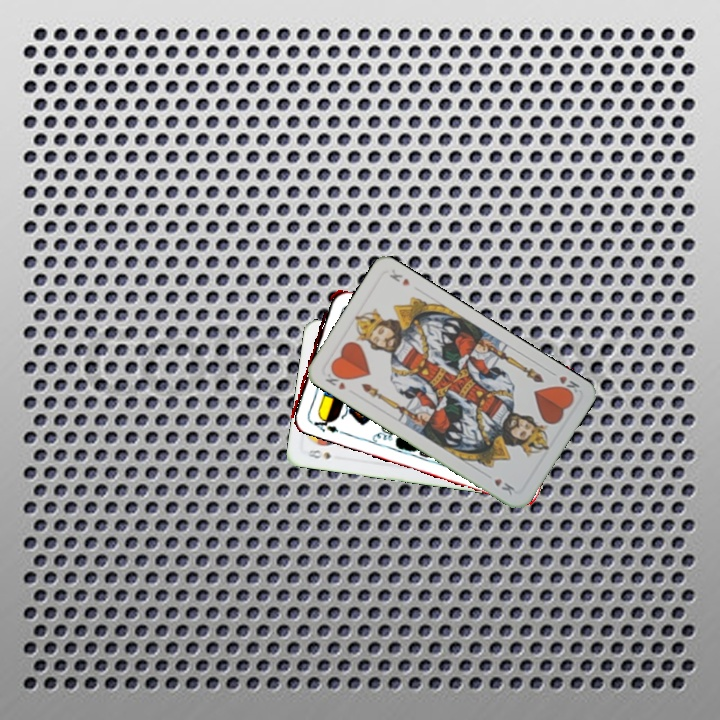EA: (304, 410, 344, 436)
HK: (546, 367, 582, 399), (321, 367, 349, 393)
S8: (304, 445, 334, 462)
